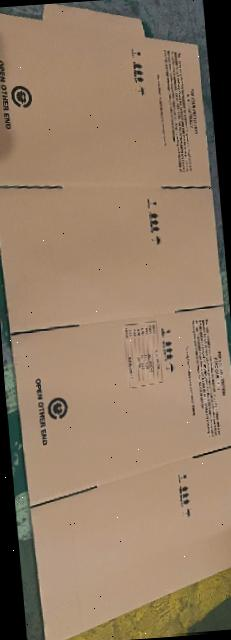box: (0, 4, 231, 640)
